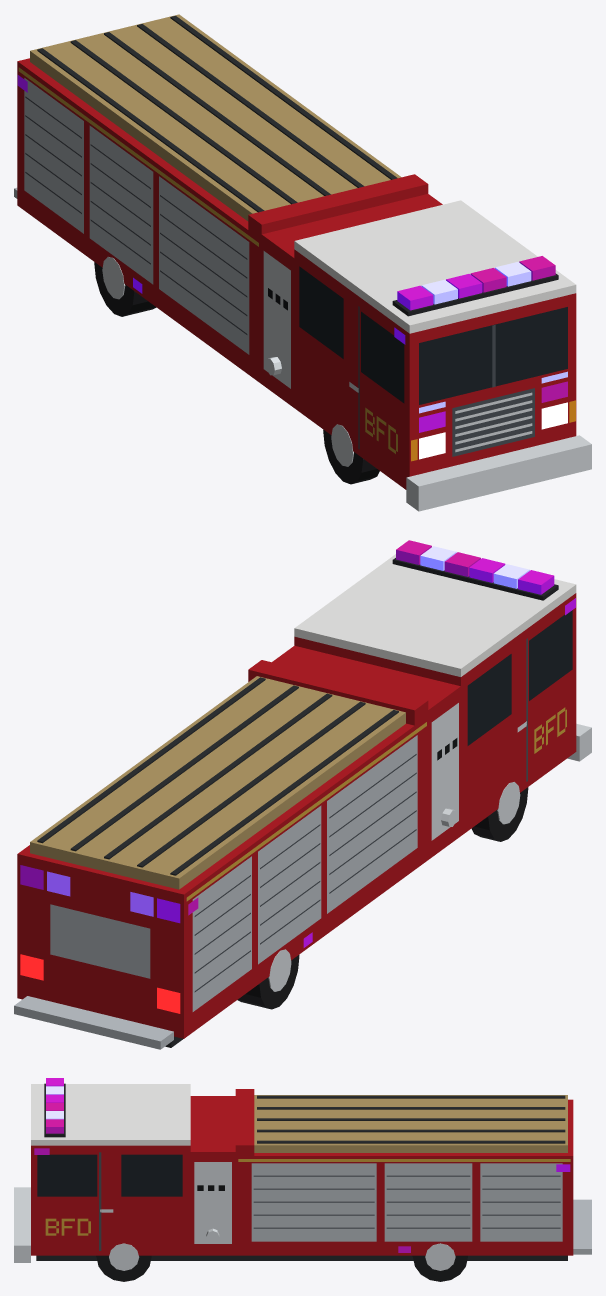
The model's file is bfd-engine.glb.
3 renders of one model, top to bottom at view 1: azimuth 30°, elevation 25°; view 2: azimuth 150°, elevation 25°; view 3: azimuth 270°, elevation 25°, orthographic. The views are drawn at different scales.
Visible parts, largest first — view 1: bfd-engine; view 2: bfd-engine; view 3: bfd-engine.
Part boxes in pixels (x1,y1,x2,y2): bfd-engine: [14, 14, 591, 511]; bfd-engine: [14, 540, 591, 1049]; bfd-engine: [14, 1078, 591, 1281].
Size of the model in its own units: 2.74 by 3.15 by 10.87.
